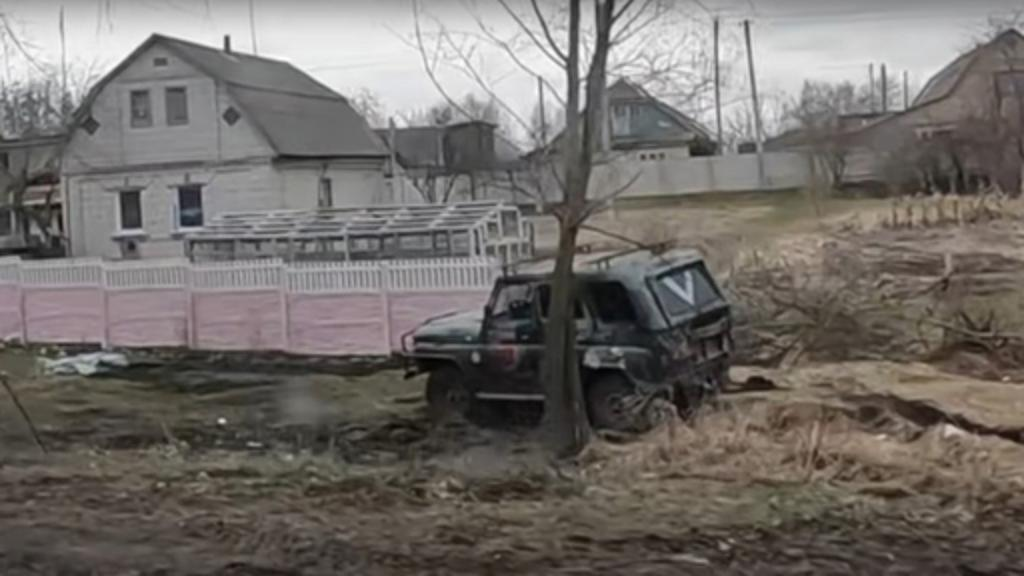CAR: (398, 236, 734, 428)
